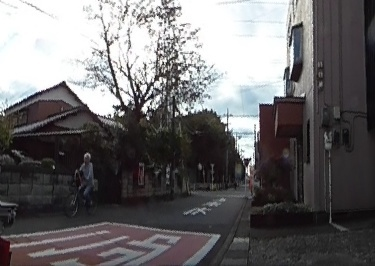person: (78, 151, 93, 210)
